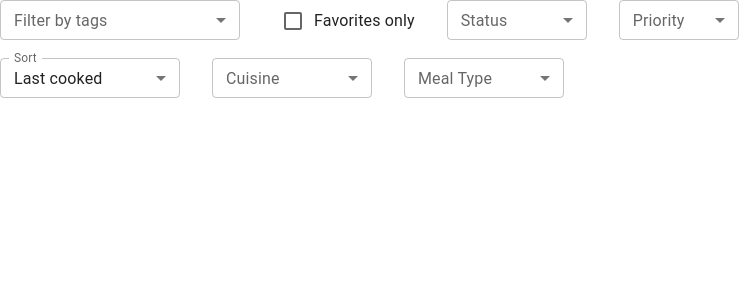
Scenario: RecipeFilterBar Component › Tag filter › should render all available tags in dropdown menu
This screenshot has width=756, height=302.
Open the dropdown
Click the dropdown named "filter by tags" next to "Filter by tags" at [120, 20], box [0,0,240,40]
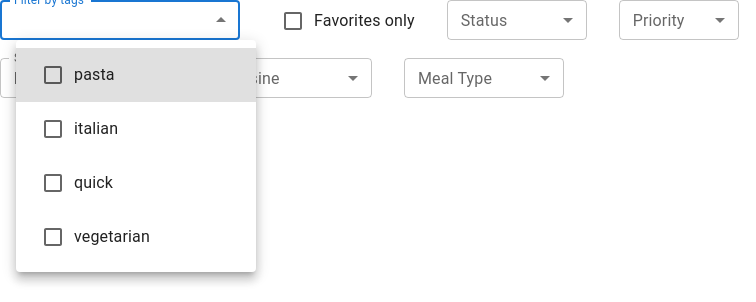
Expected: the text "pasta" is shown, [74,65,115,84]
Expected: the text "italian" is shown, [74,119,118,138]
Expected: the text "quick" is shown, [74,173,113,192]
